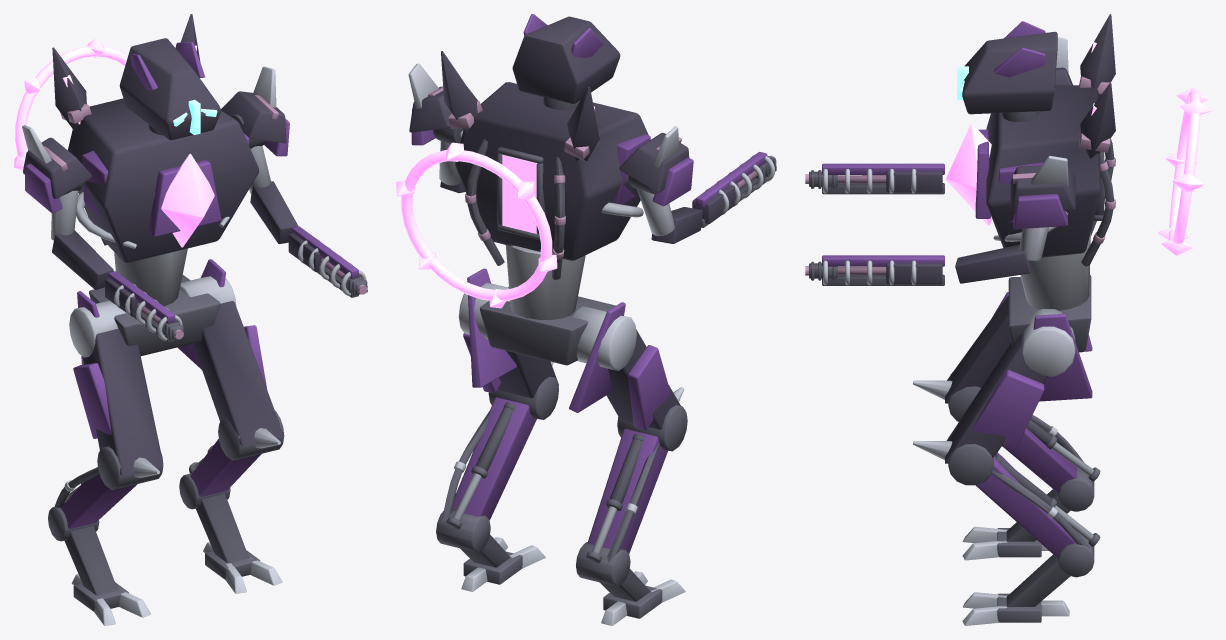
Rendered from void_warper.glb.
3 views of the same model, side by side, from view 1: azimuth 30°, elevation 25°; view 2: azimuth 150°, elevation 25°; view 3: azimuth 270°, elevation 25° (orthographic). The views are drawn at different scales.
Parts seen in each view (by area): view 1: BodyGroup_ArmorAlloy, RightThigh_ArmorAlloy, LeftThigh_ArmorAlloy, HeadGroup_ArmorAlloy, RightArm_ArmorAlloy, LeftArm_ArmorAlloy, RightFoot_ArmorAlloy, LeftFoot_ArmorAlloy, Pelvis_ArmorAlloy, RightShin_ArmorAlloy, LeftShin_ArmorAlloy, BodyGroup_A3_SingularityGlow (+4 smaller); view 2: BodyGroup_ArmorAlloy, Pelvis_ArmorAlloy, LeftShin_ArmorAlloy, RightShin_ArmorAlloy, HeadGroup_ArmorAlloy, RightThigh_ArmorAlloy, CoreRing_0_A3_SingularityGlow, RightArm_ArmorAlloy, RightFoot_ArmorAlloy, LeftFoot_ArmorAlloy, LeftArm_ArmorAlloy, WeaponSlide_ArmorAlloy (+2 smaller); view 3: BodyGroup_ArmorAlloy, LeftThigh_ArmorAlloy, HeadGroup_ArmorAlloy, LeftArm_ArmorAlloy, LeftShin_ArmorAlloy, LeftFoot_ArmorAlloy, RightShin_ArmorAlloy, Pelvis_ArmorAlloy, WeaponSlide_ArmorAlloy, LeftWeaponSlide_ArmorAlloy, CoreRing_0_A3_SingularityGlow, RightFoot_ArmorAlloy (+3 smaller).
Boxes of the visible parts, bbox=[...] form: BodyGroup_ArmorAlloy: bbox=[52, 14, 258, 306]; RightThigh_ArmorAlloy: bbox=[69, 300, 163, 476]; LeftThigh_ArmorAlloy: bbox=[180, 276, 283, 446]; HeadGroup_ArmorAlloy: bbox=[119, 38, 220, 140]; RightArm_ArmorAlloy: bbox=[22, 125, 113, 289]; LeftArm_ArmorAlloy: bbox=[221, 66, 298, 243]; RightFoot_ArmorAlloy: bbox=[48, 506, 151, 625]; LeftFoot_ArmorAlloy: bbox=[179, 473, 282, 593]; Pelvis_ArmorAlloy: bbox=[77, 259, 225, 369]; RightShin_ArmorAlloy: bbox=[54, 446, 163, 528]; LeftShin_ArmorAlloy: bbox=[189, 411, 284, 496]; BodyGroup_A3_SingularityGlow: bbox=[62, 45, 214, 247]; BodyGroup_ArmorAlloy: bbox=[441, 51, 650, 319]; Pelvis_ArmorAlloy: bbox=[467, 268, 625, 412]; LeftShin_ArmorAlloy: bbox=[442, 361, 558, 529]; RightShin_ArmorAlloy: bbox=[586, 387, 687, 564]; HeadGroup_ArmorAlloy: bbox=[512, 14, 620, 109]; RightThigh_ArmorAlloy: bbox=[572, 306, 680, 430]; CoreRing_0_A3_SingularityGlow: bbox=[396, 142, 557, 308]; RightArm_ArmorAlloy: bbox=[619, 126, 702, 243]; RightFoot_ArmorAlloy: bbox=[576, 542, 685, 625]; LeftFoot_ArmorAlloy: bbox=[436, 510, 545, 591]; LeftArm_ArmorAlloy: bbox=[408, 63, 477, 193]; WeaponSlide_ArmorAlloy: bbox=[692, 152, 776, 227]; BodyGroup_ArmorAlloy: bbox=[975, 14, 1115, 310]; LeftThigh_ArmorAlloy: bbox=[945, 309, 1075, 463]; HeadGroup_ArmorAlloy: bbox=[962, 21, 1057, 121]; LeftArm_ArmorAlloy: bbox=[955, 155, 1075, 283]; LeftShin_ArmorAlloy: bbox=[913, 441, 1100, 557]; LeftFoot_ArmorAlloy: bbox=[962, 532, 1094, 625]; RightShin_ArmorAlloy: bbox=[913, 372, 1100, 492]; Pelvis_ArmorAlloy: bbox=[1008, 275, 1092, 401]; WeaponSlide_ArmorAlloy: bbox=[805, 163, 944, 194]; LeftWeaponSlide_ArmorAlloy: bbox=[805, 255, 944, 285]; CoreRing_0_A3_SingularityGlow: bbox=[1158, 88, 1211, 255]; RightFoot_ArmorAlloy: bbox=[962, 467, 1094, 560].
Size of the model in its own units: 0.9396 by 1.95 by 1.31.
